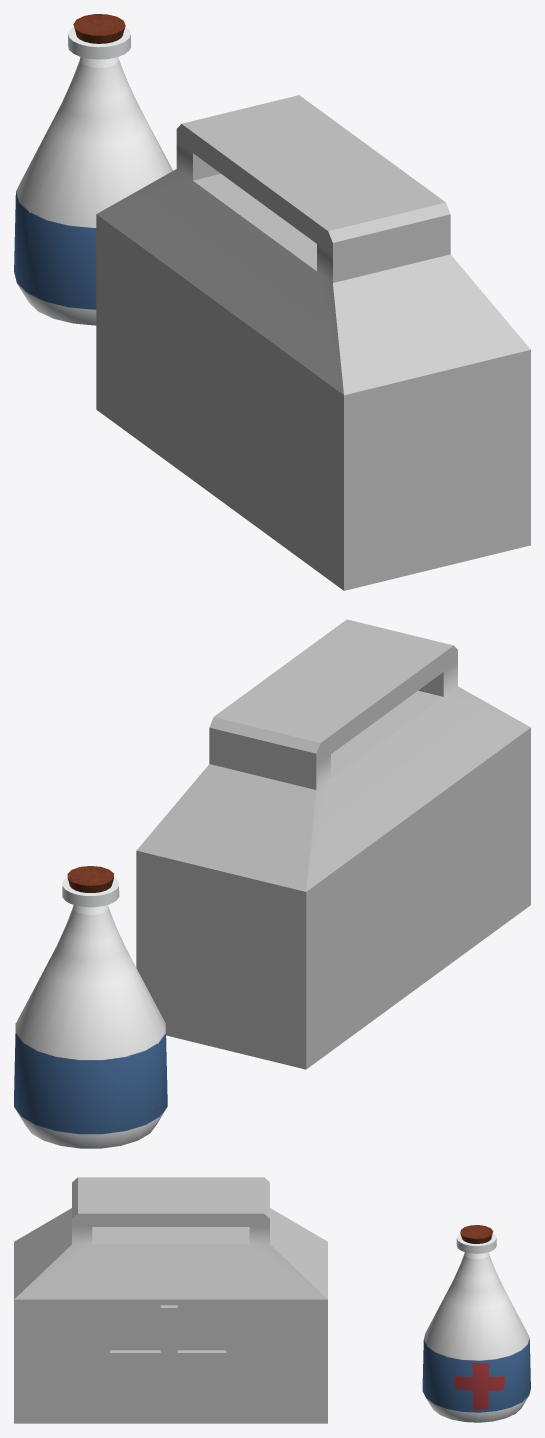
Rendered from Health pickups.fbx.
3 renders of one model, top to bottom at view 1: azimuth 30°, elevation 25°; view 2: azimuth 150°, elevation 25°; view 3: azimuth 270°, elevation 25°, orthographic. The views are drawn at different scales.
Visible parts, largest first — view 1: LargeHealth_Box, Potion_Bottle; view 2: LargeHealth_Box, Potion_Bottle; view 3: LargeHealth_Box, Potion_Bottle.
Part boxes in pixels (x1,y1,x2,y2): LargeHealth_Box: (96, 95, 530, 590); Potion_Bottle: (14, 14, 173, 325); LargeHealth_Box: (136, 619, 530, 1069); Potion_Bottle: (14, 866, 167, 1148); LargeHealth_Box: (14, 1177, 327, 1423); Potion_Bottle: (422, 1225, 530, 1422).
Size of the model in its own units: 2.52 by 3.88 by 9.11.
